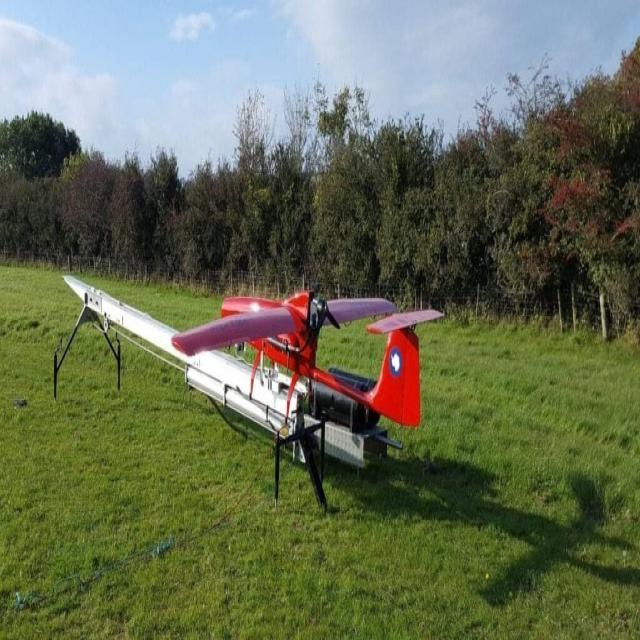iha: (173, 270, 455, 431)
